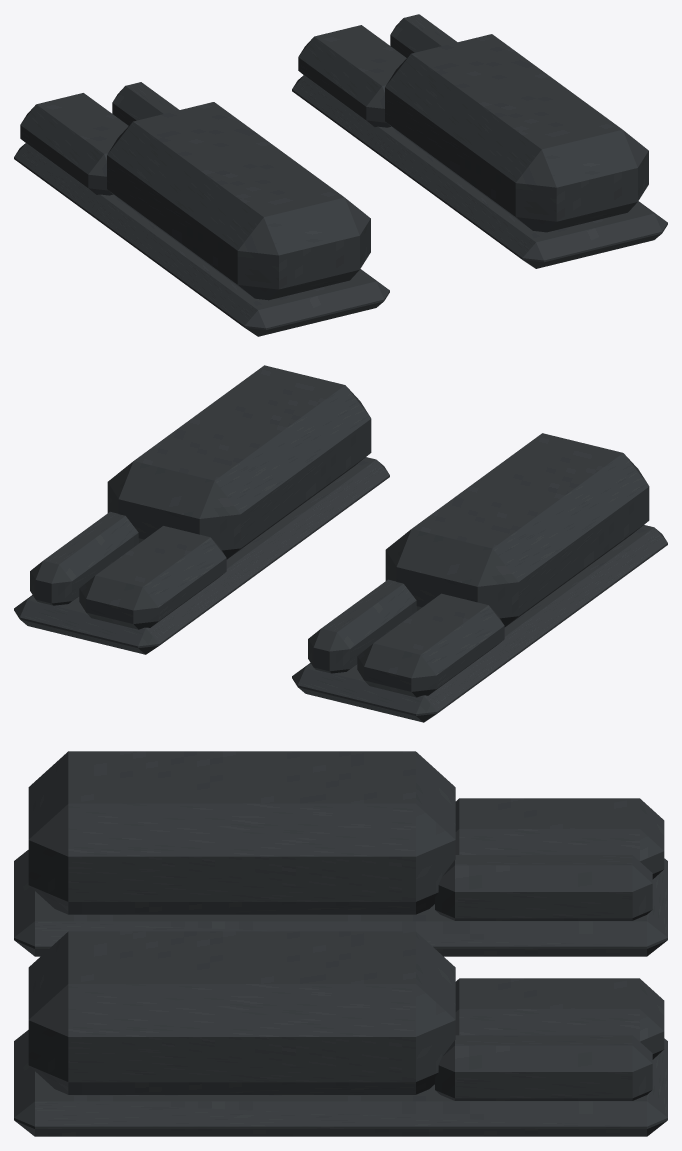
The model's file is wetsuit_booties.glb.
3 views of the same model, one above another, from view 1: azimuth 30°, elevation 25°; view 2: azimuth 150°, elevation 25°; view 3: azimuth 270°, elevation 25° (orthographic). The views are drawn at different scales.
Visible parts, largest first — view 1: block_shoe or boot upper (×2), block_low shaped sole (×2), block_split toe (×2), block_big toe pocket (×2); view 2: block_shoe or boot upper (×2), block_low shaped sole (×2), block_split toe (×2), block_big toe pocket (×2); view 3: block_shoe or boot upper (×2), block_low shaped sole (×2), block_big toe pocket (×2), block_split toe (×2).
Boxes of the visible parts, box(x1,y1,x2,y2) form: block_shoe or boot upper (×2): box(107, 34, 648, 300); block_low shaped sole (×2): box(14, 75, 667, 336); block_split toe (×2): box(20, 25, 406, 195); block_big toe pocket (×2): box(112, 14, 457, 125); block_shoe or boot upper (×2): box(107, 365, 649, 627); block_low shaped sole (×2): box(14, 457, 667, 722); block_split toe (×2): box(79, 526, 504, 697); block_big toe pocket (×2): box(30, 511, 416, 673); block_shoe or boot upper (×2): box(28, 751, 455, 1094); block_low shaped sole (×2): box(14, 850, 667, 1136); block_big toe pocket (×2): box(435, 855, 652, 1100); block_split toe (×2): box(455, 798, 664, 1059).
Size of the model in its own units: 0.3009 by 0.0719 by 0.303.
Materials: 1 (1 with a texture image).
